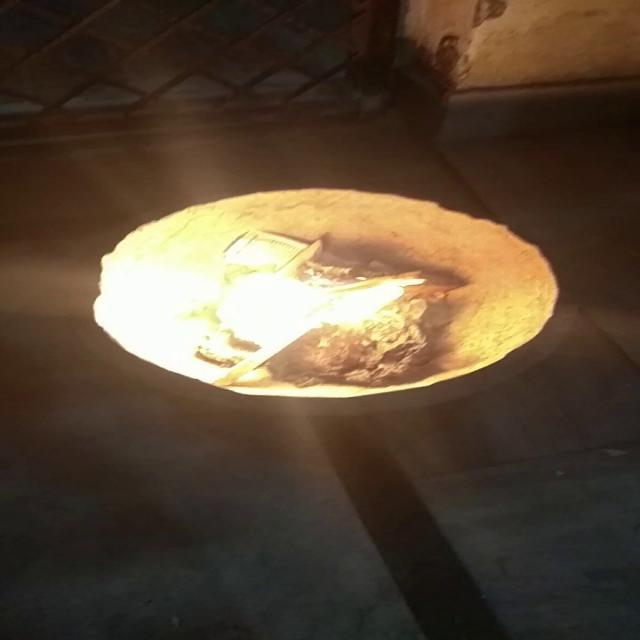fire: (163, 241, 444, 348)
